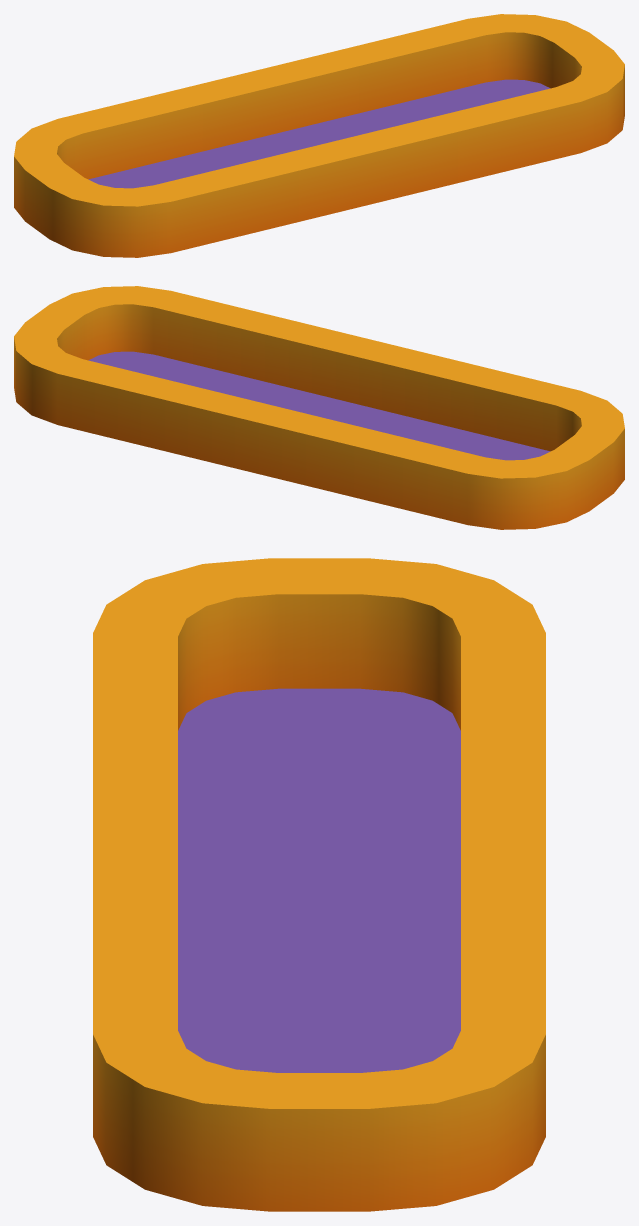
File: Gound_Socket_01_v03.fbx
3 views of the same model, one above another, from view 1: azimuth 30°, elevation 25°; view 2: azimuth 150°, elevation 25°; view 3: azimuth 270°, elevation 25° (orthographic). The views are drawn at different scales.
Visible parts, largest first — view 1: Obstacle_Gound_Socket_01_v03; view 2: Obstacle_Gound_Socket_01_v03; view 3: Obstacle_Gound_Socket_01_v03.
Boxes of the visible parts, left/top/right/bottom form: Obstacle_Gound_Socket_01_v03: left=14, top=14, right=624, bottom=257; Obstacle_Gound_Socket_01_v03: left=14, top=286, right=624, bottom=529; Obstacle_Gound_Socket_01_v03: left=93, top=558, right=545, bottom=1211.
Size of the model in its own units: 57.5 by 5 by 20.
Materials: 1 (1 with a texture image).
